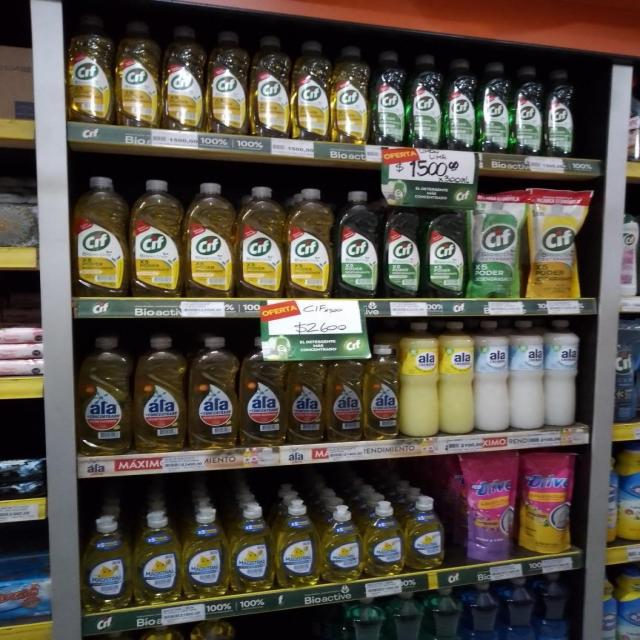ala_conc_amarillo: (76, 334, 131, 455), (134, 333, 186, 452), (189, 334, 238, 450), (240, 339, 284, 446), (364, 344, 400, 440), (286, 356, 324, 445), (326, 354, 363, 443)
ala_crem_amarillo: (401, 320, 438, 438), (439, 321, 474, 435)
ala_crem_blanco: (544, 318, 580, 428), (509, 318, 544, 431), (475, 319, 508, 433)
cif_conc_bot_amarilla: (73, 175, 127, 297), (130, 178, 182, 298), (185, 181, 234, 298), (237, 184, 284, 298), (286, 186, 332, 298), (66, 14, 112, 124), (115, 20, 160, 128), (162, 25, 205, 131), (208, 29, 248, 135), (250, 34, 290, 138), (292, 40, 330, 141), (332, 44, 369, 144)
cif_conc_botella_verde: (336, 189, 379, 298), (382, 193, 422, 298), (424, 204, 466, 298), (372, 49, 406, 147), (408, 53, 442, 149), (444, 57, 477, 152), (479, 60, 511, 154), (545, 68, 577, 158), (513, 64, 544, 156)
cif_conc_sachet_amarillo: (527, 188, 583, 300)
cif_conc_sachet_verde: (469, 189, 523, 299)
drive: (462, 450, 517, 562), (520, 450, 573, 555)
magistral_con_amarillo: (81, 515, 132, 611), (134, 510, 180, 604), (182, 506, 228, 599), (230, 503, 273, 593), (276, 499, 319, 588), (321, 504, 362, 582), (364, 500, 403, 577), (405, 496, 445, 571), (189, 619, 240, 640), (136, 624, 185, 640)
